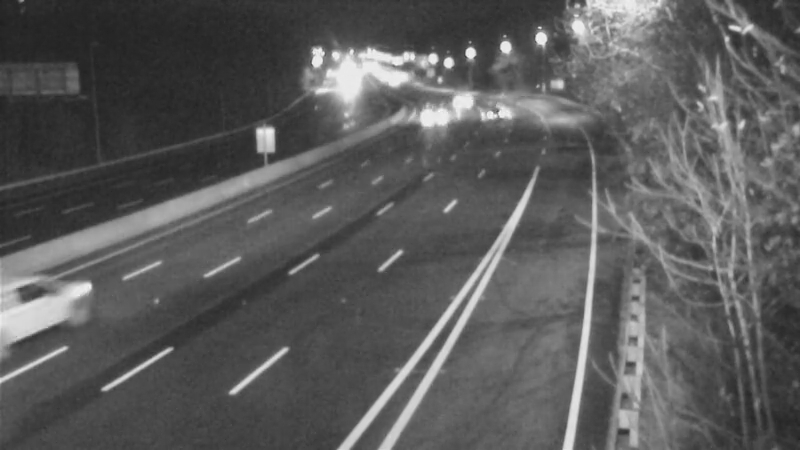vehicle: (1, 254, 103, 364), (438, 78, 488, 128), (467, 89, 517, 139), (408, 90, 458, 140)
